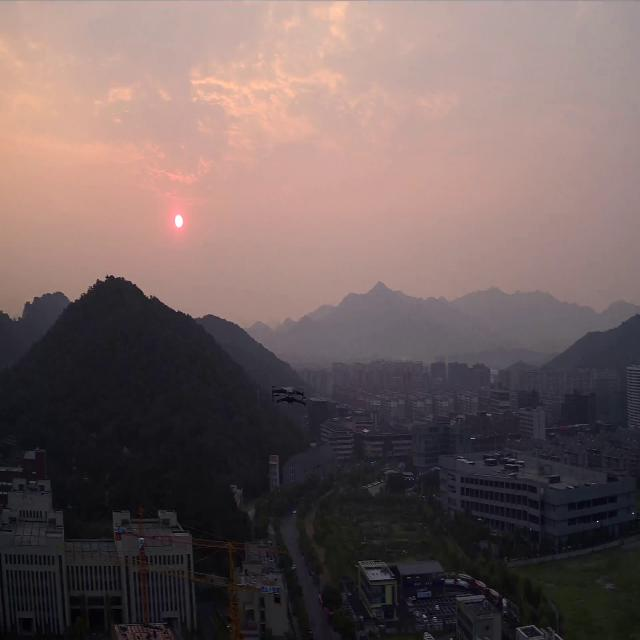UAV: (269, 385, 311, 406)
